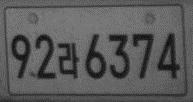2: (34, 34, 56, 80)
3: (107, 33, 130, 79)
4: (155, 31, 182, 81)
6: (84, 32, 107, 80)
7: (131, 31, 154, 79)
9: (10, 34, 31, 79)
라: (56, 41, 80, 81)
